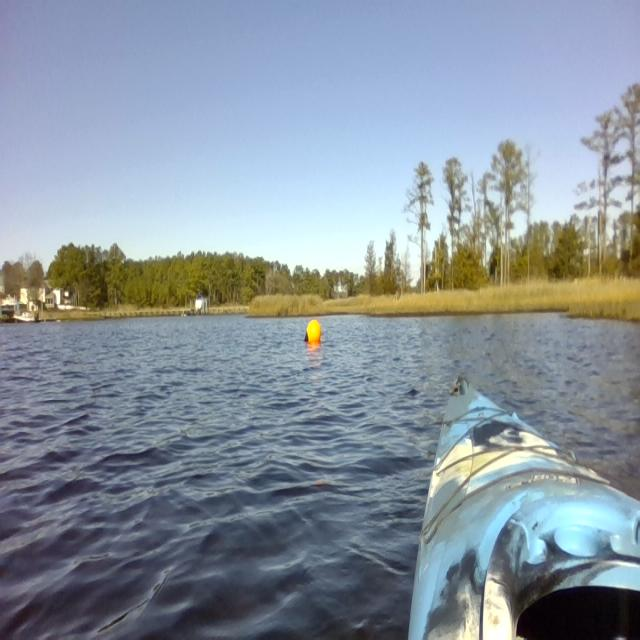Buoy: (300, 312, 328, 354)
